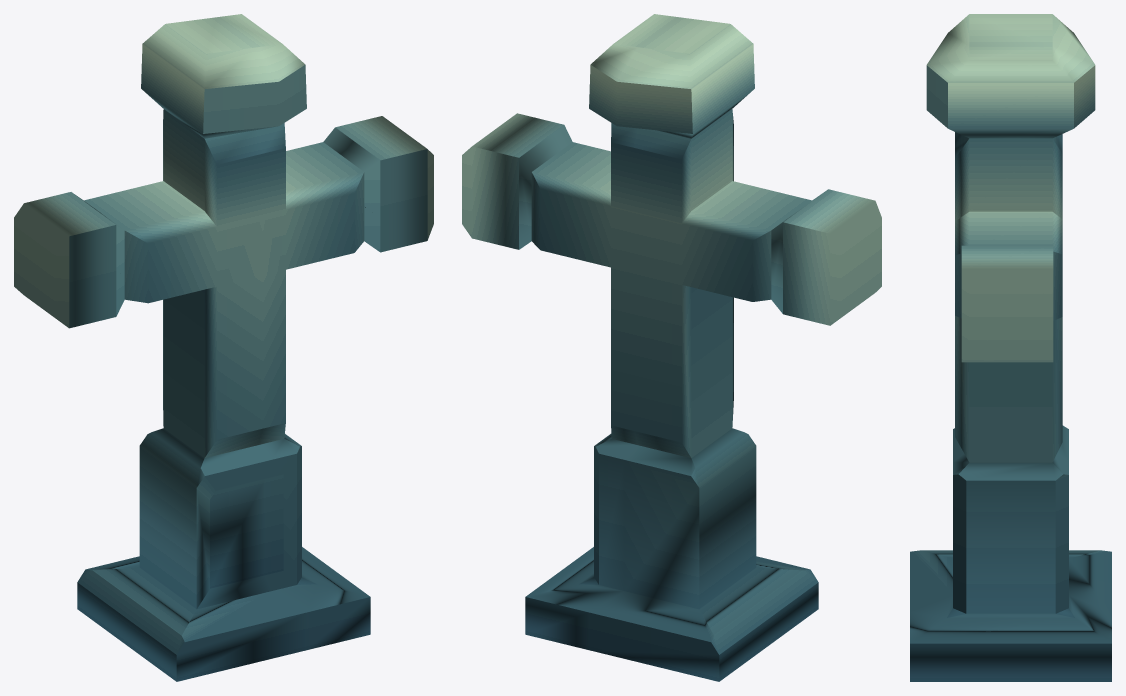
Rendered from Gravestone_Cross.fbx.
3 views of the same model, side by side, from view 1: azimuth 30°, elevation 25°; view 2: azimuth 150°, elevation 25°; view 3: azimuth 270°, elevation 25° (orthographic).
Parts seen in each view (by area): view 1: pCube5; view 2: pCube5; view 3: pCube5.
Part boxes in pixels (<box>): pCube5: <box>14,14,433,681</box>; pCube5: <box>462,14,881,681</box>; pCube5: <box>910,14,1111,681</box>.
Bounding box in the file's own units: 4.2 × 6.28 × 1.91.
